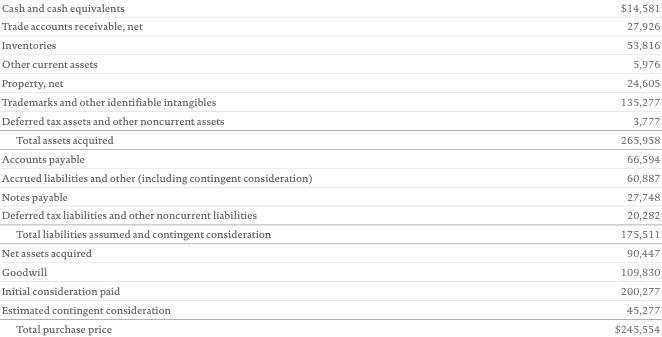table: (0, 0, 659, 334)
table column: (0, 0, 462, 334), (462, 0, 659, 334)
table row: (0, 16, 659, 35), (0, 35, 659, 54), (0, 54, 659, 73), (0, 91, 659, 110), (0, 110, 659, 129), (0, 129, 659, 148), (0, 148, 659, 167), (0, 167, 659, 186), (0, 186, 659, 205), (0, 205, 659, 224), (0, 224, 659, 243), (0, 243, 659, 262), (0, 280, 659, 299), (0, 299, 659, 318), (0, 73, 659, 91), (0, 262, 659, 280), (0, 0, 659, 16), (0, 318, 659, 334)
